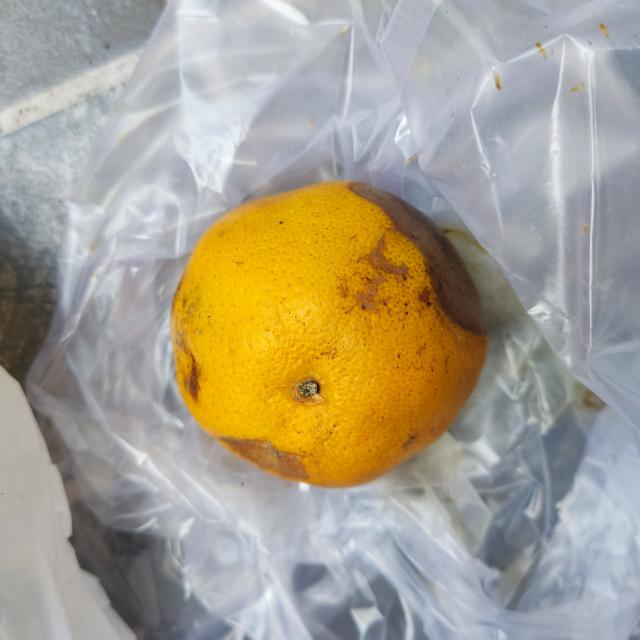orange: (169, 176, 492, 491)
